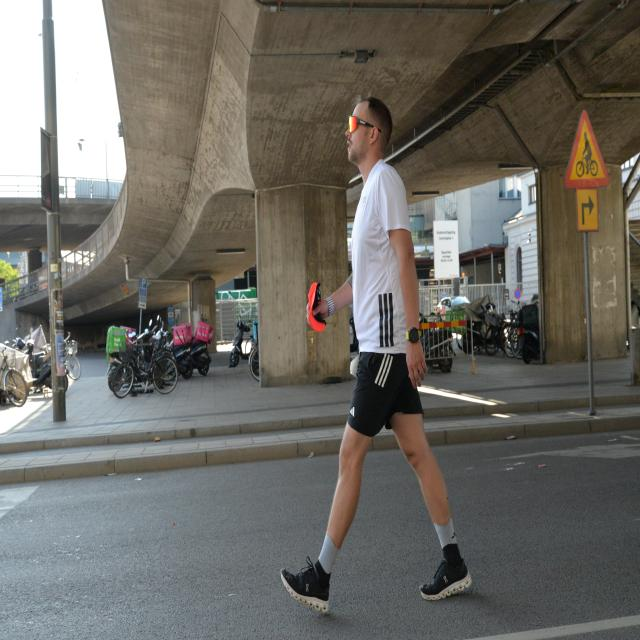runner-detect: (280, 78, 483, 619)
